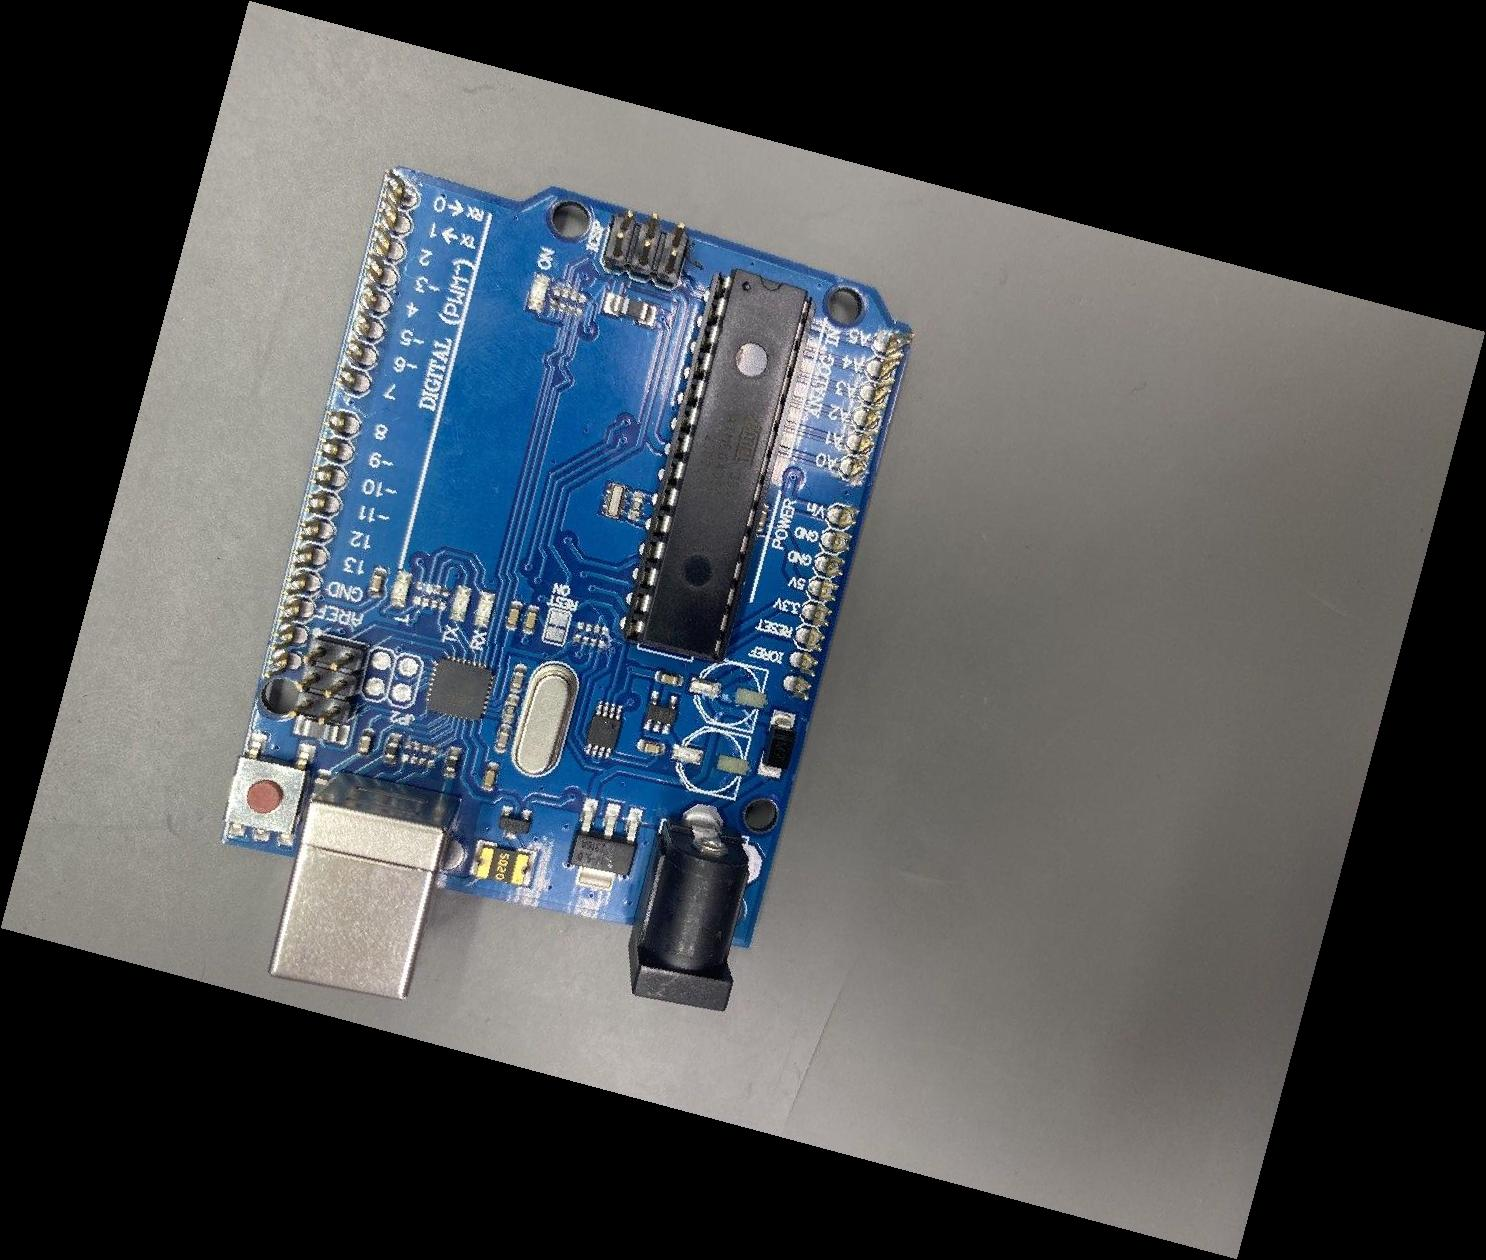ATmega328 chip: (622, 269, 817, 664)
Arduino board: (220, 164, 916, 1014)
USB: (266, 769, 461, 1001)
